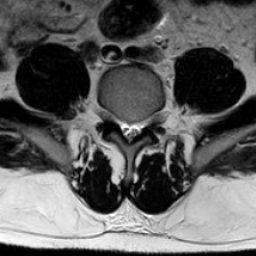CCS_normal: (126, 108, 135, 151)
LFS_normal: (143, 104, 151, 136)
LLS_normal: (135, 109, 143, 144)
RFS_normal: (109, 99, 118, 135)
RLS_normal: (118, 109, 126, 146)
